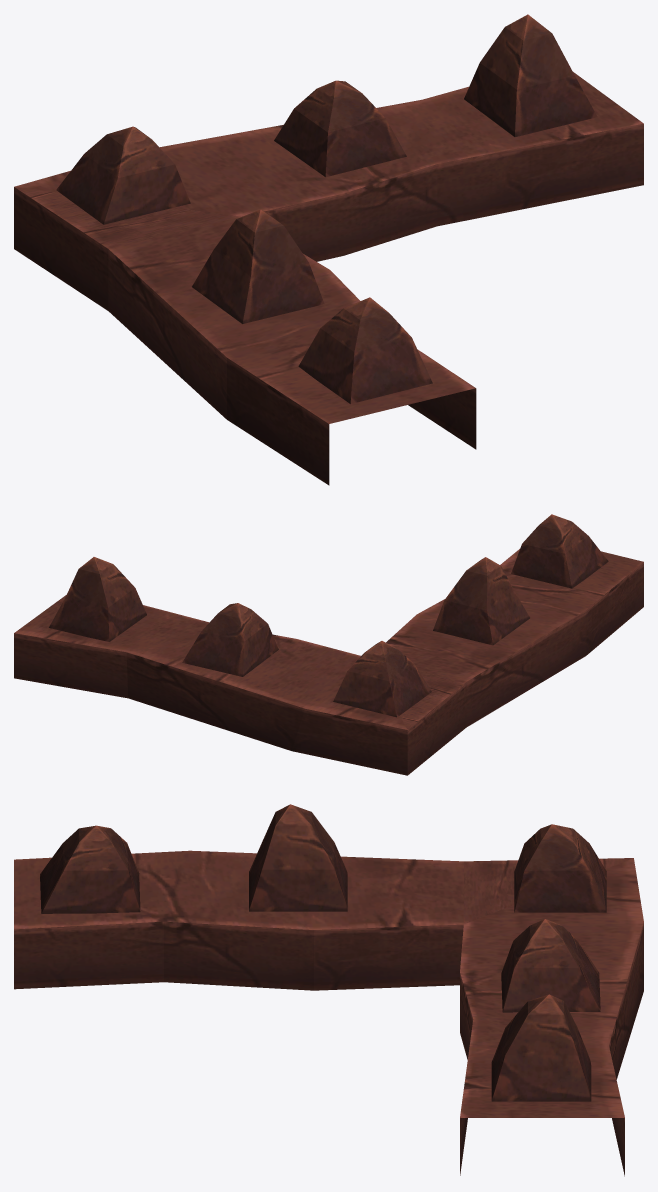
Rendered from lava_cap_concave_01.fbx.
The picture shows the model from 3 angles, top to bottom: view 1: azimuth 30°, elevation 25°; view 2: azimuth 150°, elevation 25°; view 3: azimuth 270°, elevation 25°; orthographic projection. The views are drawn at different scales.
Visible parts, largest first — view 1: obj1; view 2: obj1; view 3: obj1.
Part boxes in pixels (bbox=[...]): obj1: bbox=[14, 14, 643, 485]; obj1: bbox=[14, 514, 643, 775]; obj1: bbox=[14, 804, 643, 1176].
Bounding box in the file's own units: 4.73 × 1.25 × 4.77.
